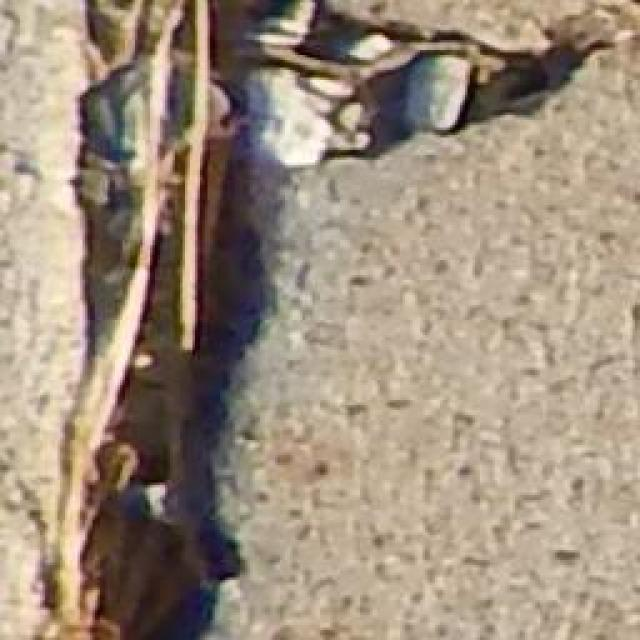concrete-crack: (33, 0, 623, 640)
